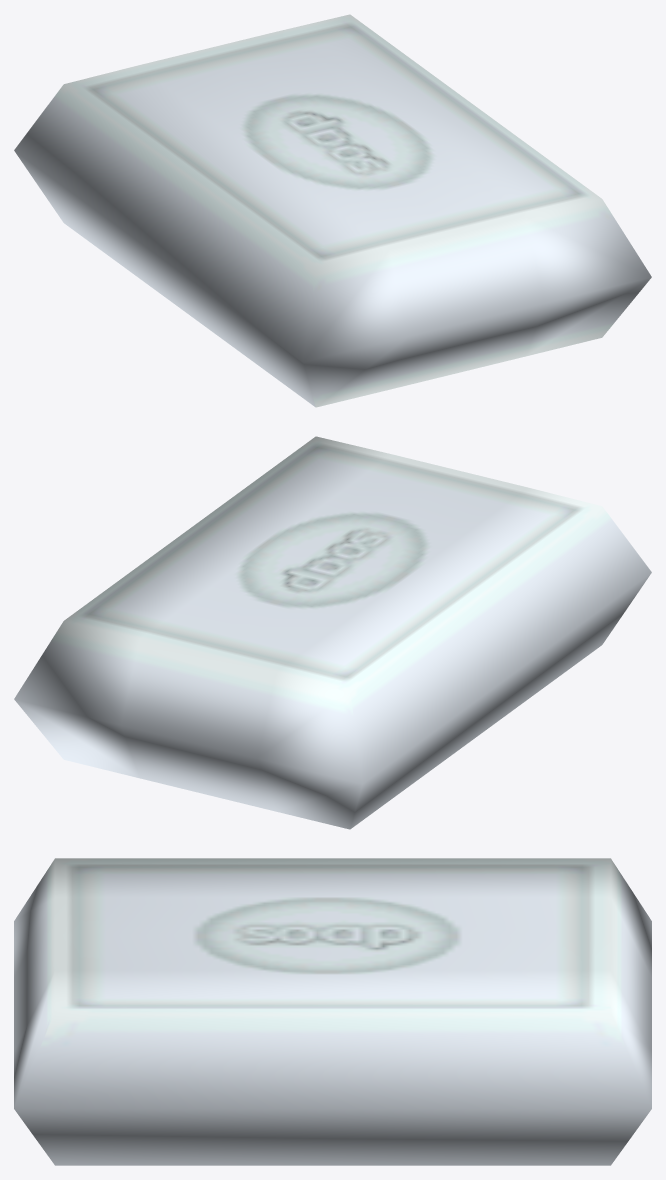
Rendered from sekken.fbx.
The picture shows the model from 3 angles, top to bottom: view 1: azimuth 30°, elevation 25°; view 2: azimuth 150°, elevation 25°; view 3: azimuth 270°, elevation 25°; orthographic projection. The views are drawn at different scales.
Parts seen in each view (by area): view 1: pCube1; view 2: pCube1; view 3: pCube1.
Part boxes in pixels (x1,y1,x2,y2): pCube1: [14, 14, 651, 407]; pCube1: [14, 436, 651, 829]; pCube1: [14, 858, 651, 1165].
Bounding box in the file's own units: 4.79 × 1.83 × 6.88.
